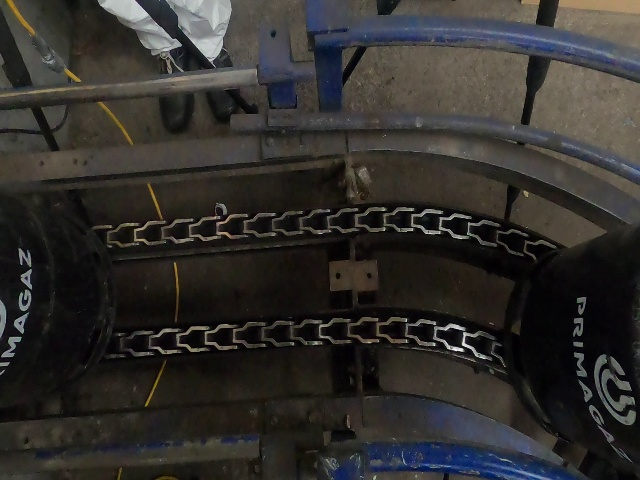gas_bottle: (7, 6, 639, 480)
